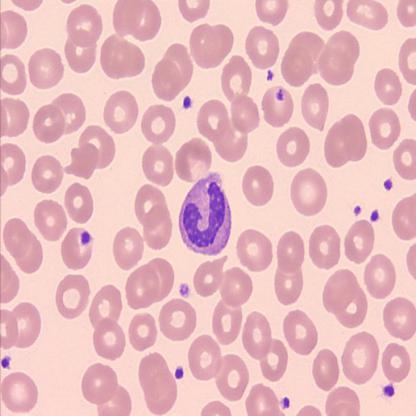Band Neutrophil: (176, 169, 234, 257)
